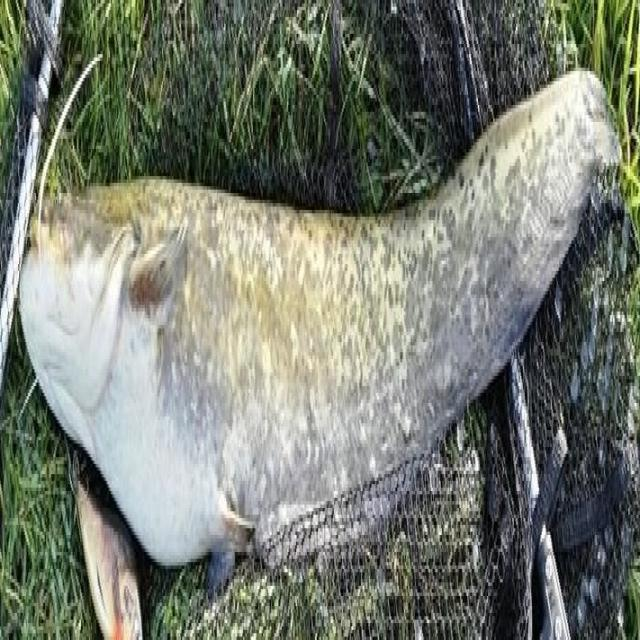Catfish: (14, 124, 617, 617)
